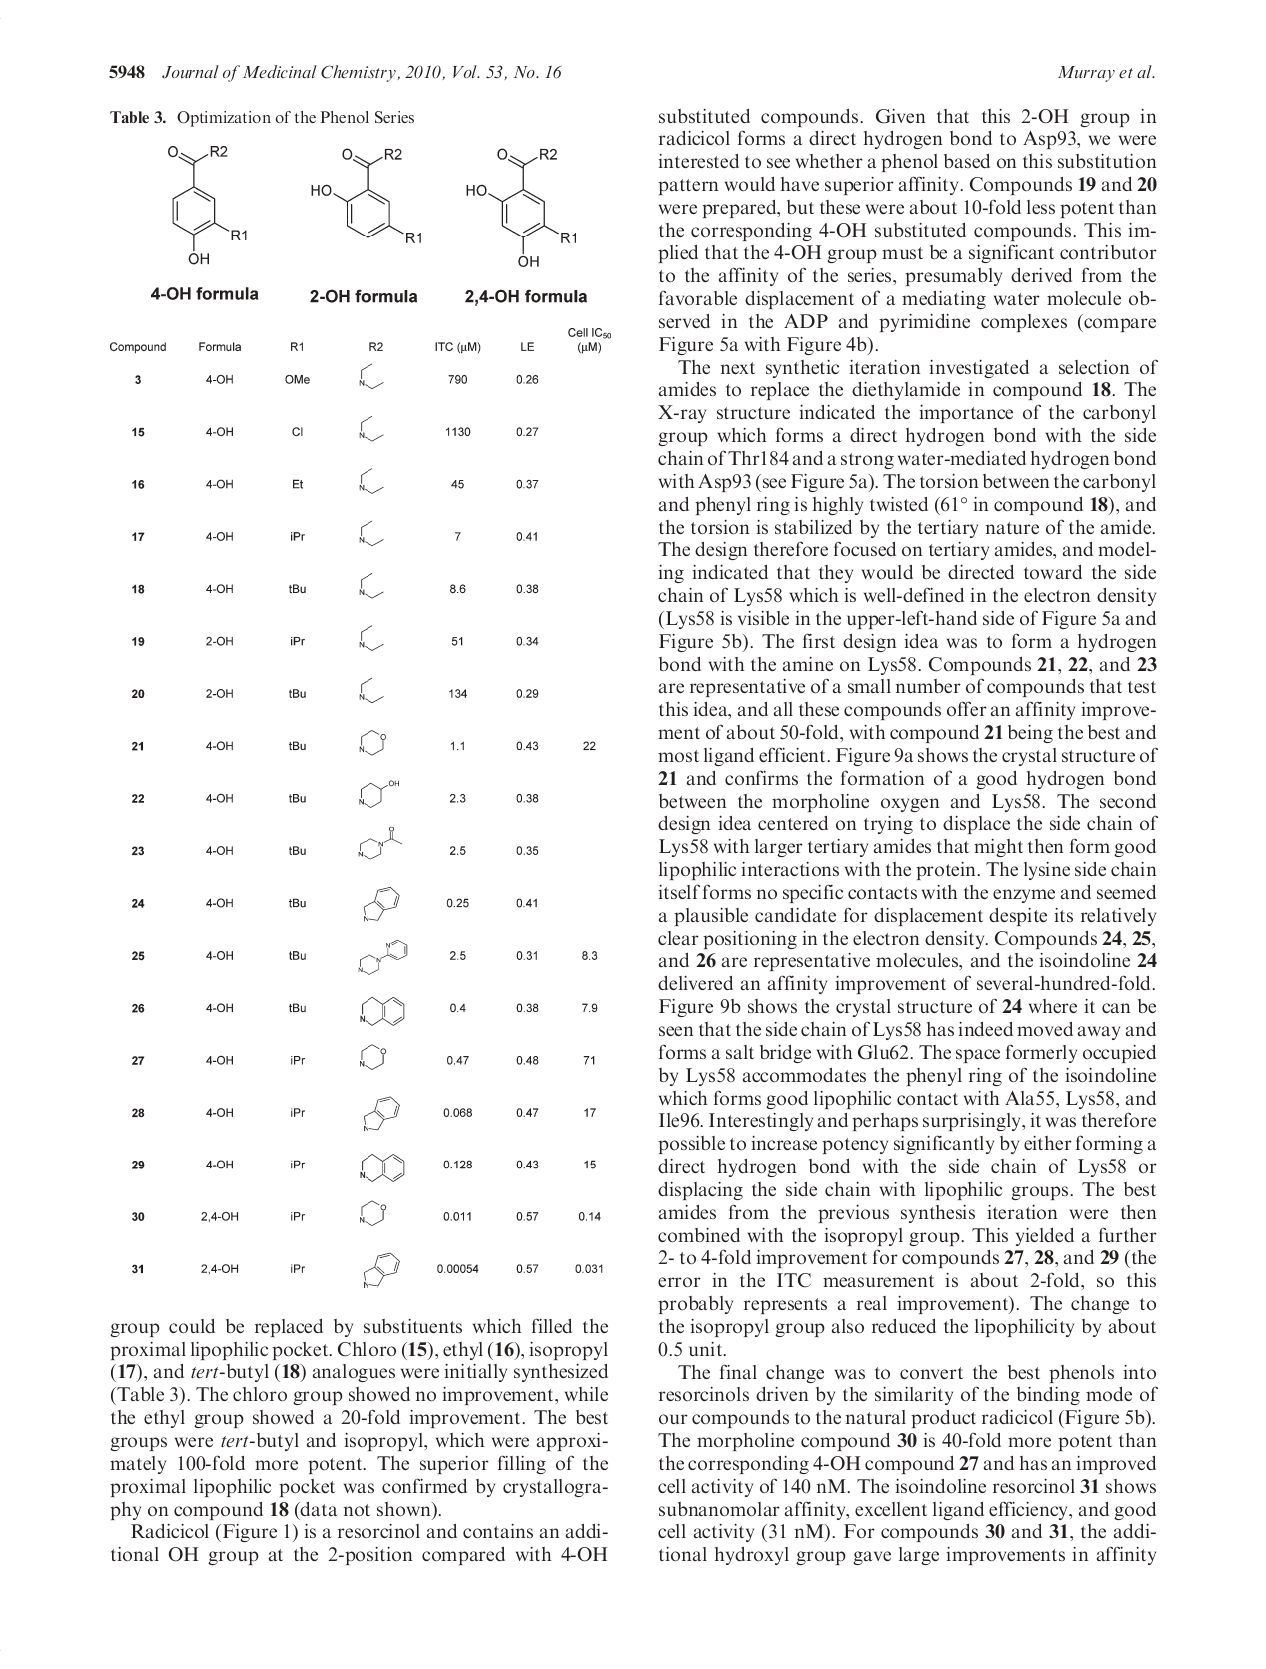exist_molecular: (464, 140, 578, 277), (302, 140, 427, 254), (152, 140, 251, 265), (355, 936, 410, 977), (355, 1148, 411, 1184), (356, 823, 403, 866), (358, 992, 410, 1029), (356, 1250, 402, 1293), (358, 1094, 400, 1134), (355, 777, 402, 813), (362, 886, 402, 926), (354, 360, 386, 398), (352, 464, 390, 496), (356, 1194, 388, 1231), (354, 414, 390, 446), (356, 1041, 390, 1075), (352, 519, 386, 551), (354, 674, 386, 707), (354, 569, 384, 602), (356, 622, 386, 657), (356, 727, 387, 757)
